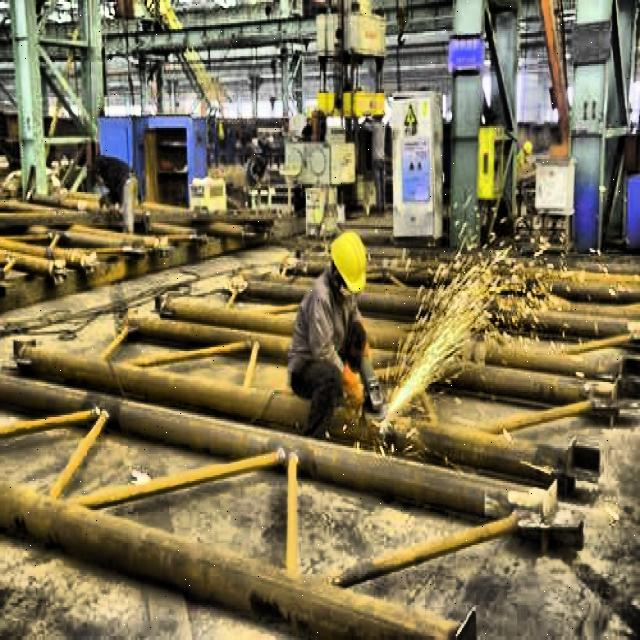helmet: (326, 224, 370, 304)
